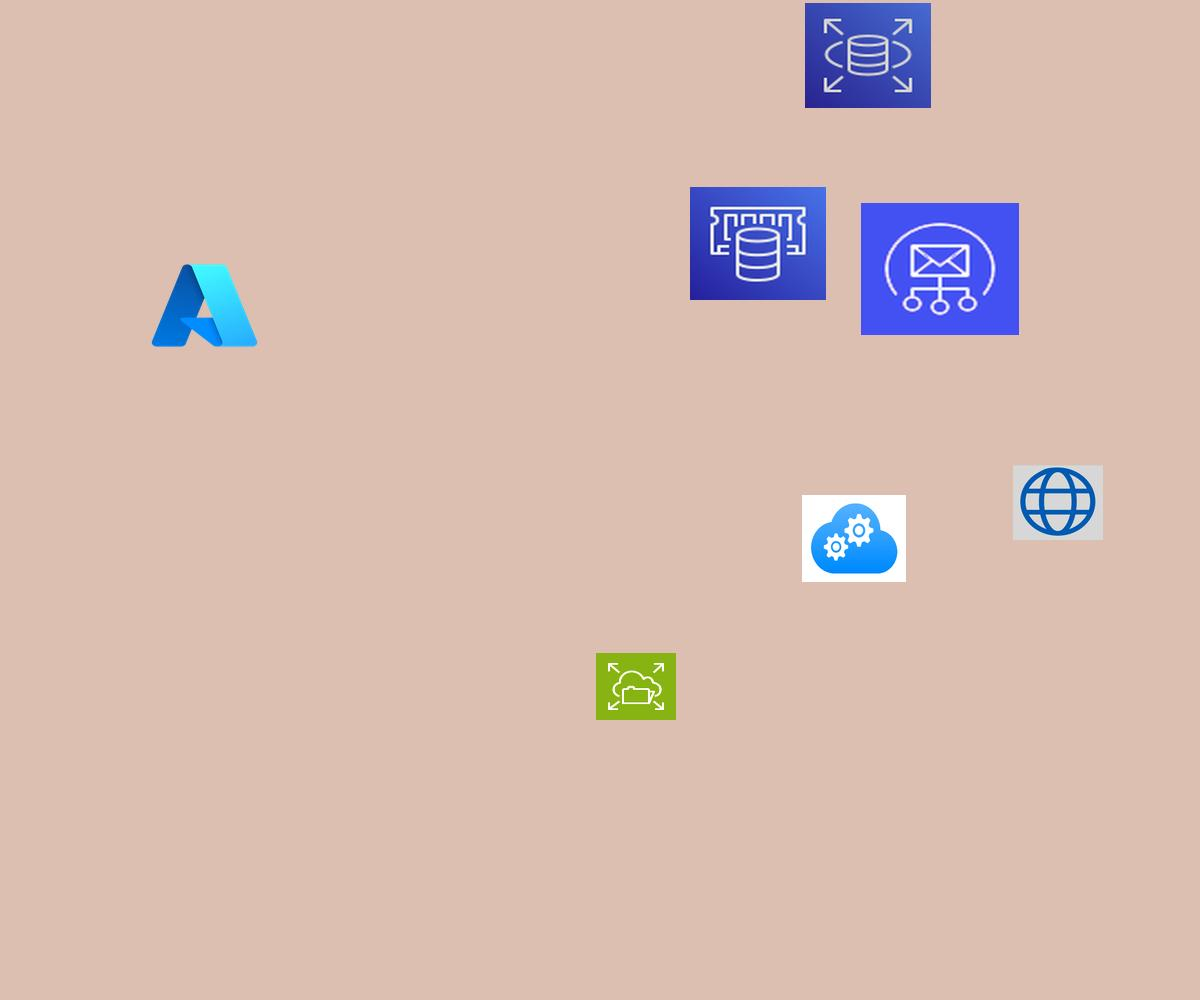AWS-EFS: (596, 653, 676, 720)
AWS-ElastiCache: (690, 187, 826, 300)
AWS-RDS: (805, 3, 931, 108)
AWS-Simple-Email-Service: (861, 203, 1019, 335)
Azure_cloud_services: (802, 495, 906, 582)
Azure_http: (1013, 465, 1103, 540)
Azure_services: (147, 258, 262, 353)
